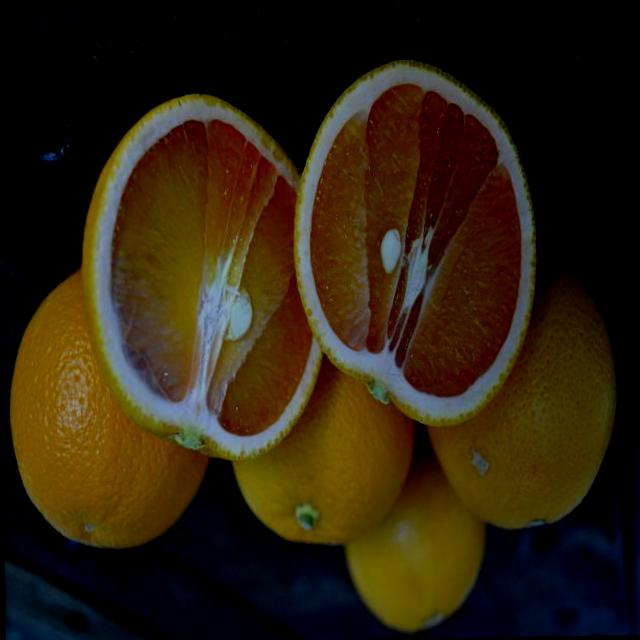Orange: (290, 57, 538, 430), (78, 95, 324, 459), (5, 264, 212, 550), (422, 248, 621, 532), (227, 352, 415, 546), (342, 432, 486, 632)
